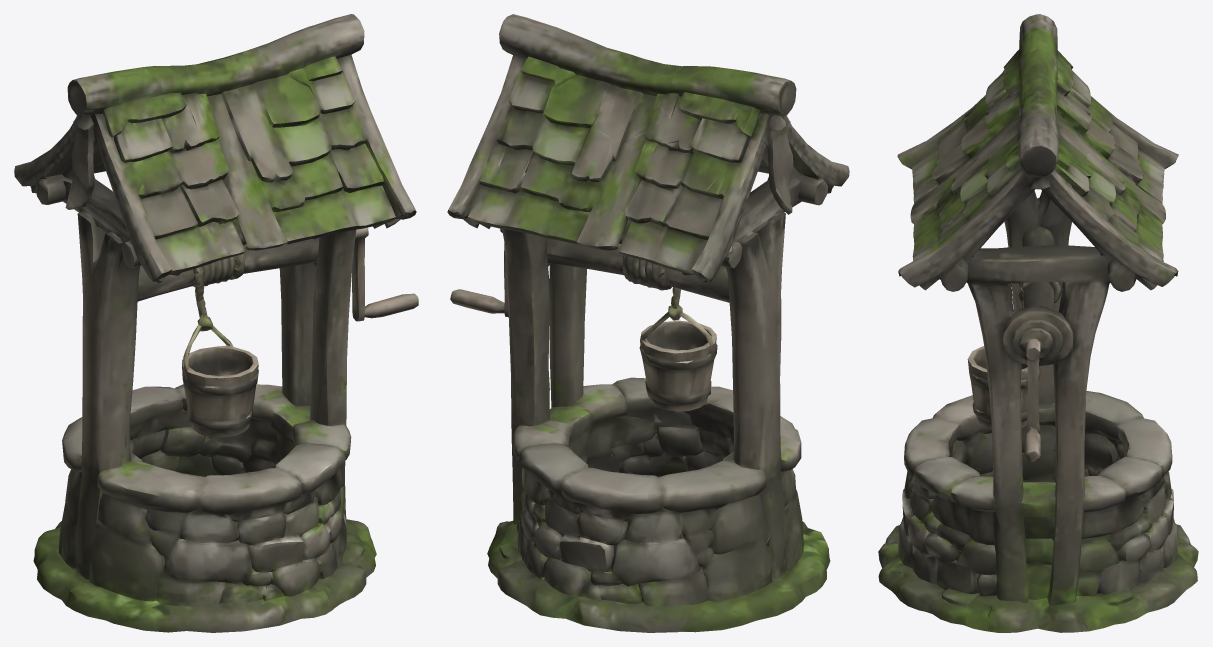
Rendered from WellMossy.glb.
3 views of the same model, side by side, from view 1: azimuth 30°, elevation 25°; view 2: azimuth 150°, elevation 25°; view 3: azimuth 270°, elevation 25° (orthographic). The views are drawn at different scales.
Parts seen in each view (by area): view 1: WellMossy; view 2: WellMossy; view 3: WellMossy.
Boxes of the visible parts, <box> form: WellMossy: <box>14,14,418,632</box>; WellMossy: <box>447,14,849,632</box>; WellMossy: <box>878,14,1198,632</box>.
Size of the model in its own units: 2.64 by 3.63 by 2.14.
Materials: 1 (1 with a texture image).
